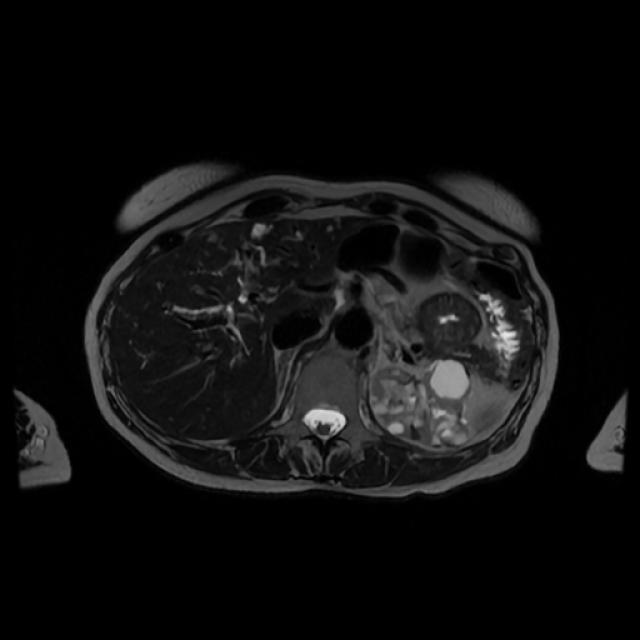sol: (371, 359, 472, 448)
